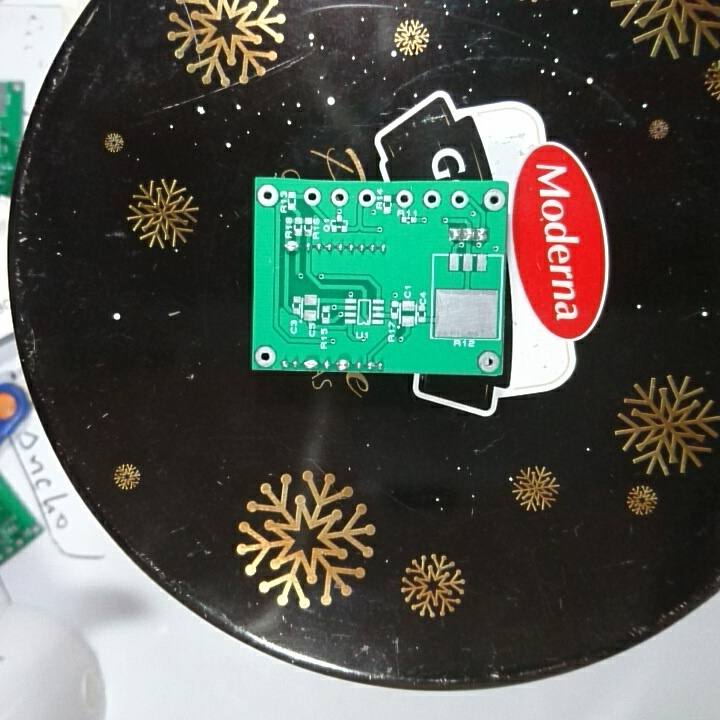F: (253, 344, 280, 369), (481, 187, 505, 212), (476, 349, 500, 374), (257, 182, 279, 209), (421, 188, 442, 211), (329, 187, 351, 208), (301, 186, 322, 207), (356, 188, 376, 209), (450, 188, 468, 211), (395, 189, 414, 210)
P: (332, 357, 352, 373), (301, 356, 319, 372), (282, 238, 299, 254)
